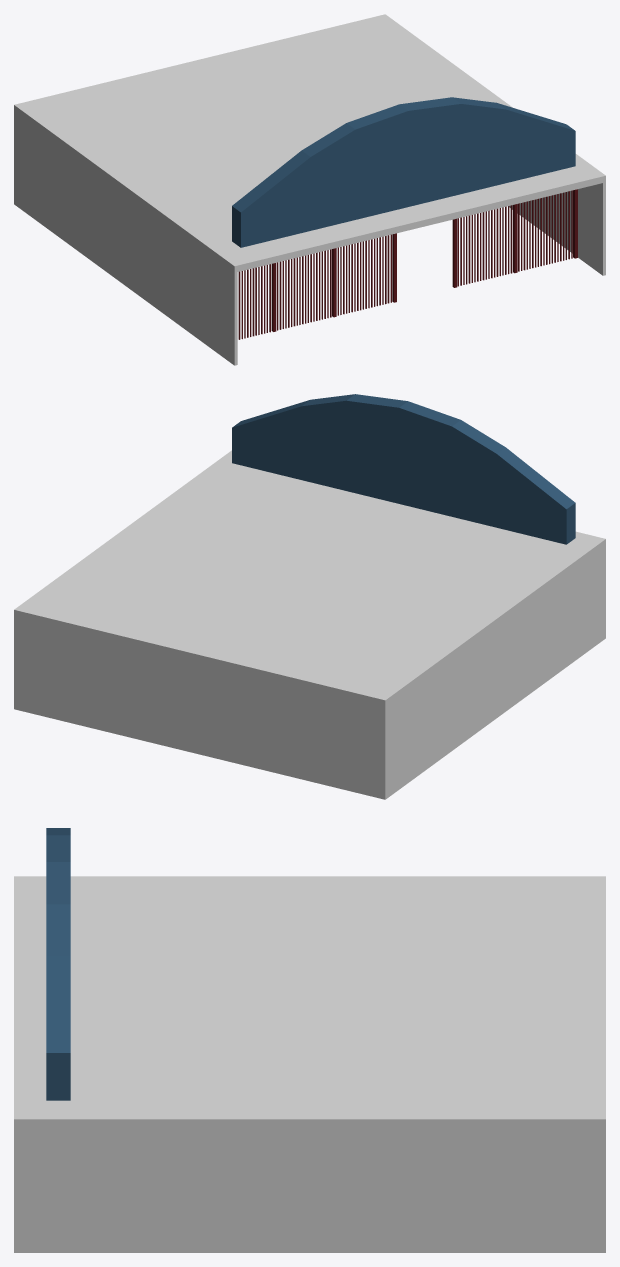
The model's file is loja_25.fbx.
The picture shows the model from 3 angles, top to bottom: view 1: azimuth 30°, elevation 25°; view 2: azimuth 150°, elevation 25°; view 3: azimuth 270°, elevation 25°; orthographic projection. The views are drawn at different scales.
Parts seen in each view (by area): view 1: Cube.003; view 2: Cube.003; view 3: Cube.003.
Boxes of the visible parts, x1,y1,x2,y2 form: Cube.003: (14,14,605,365); Cube.003: (14,394,605,799); Cube.003: (14,828,605,1252).
Size of the model in its own units: 13622 by 7034 by 14014.
